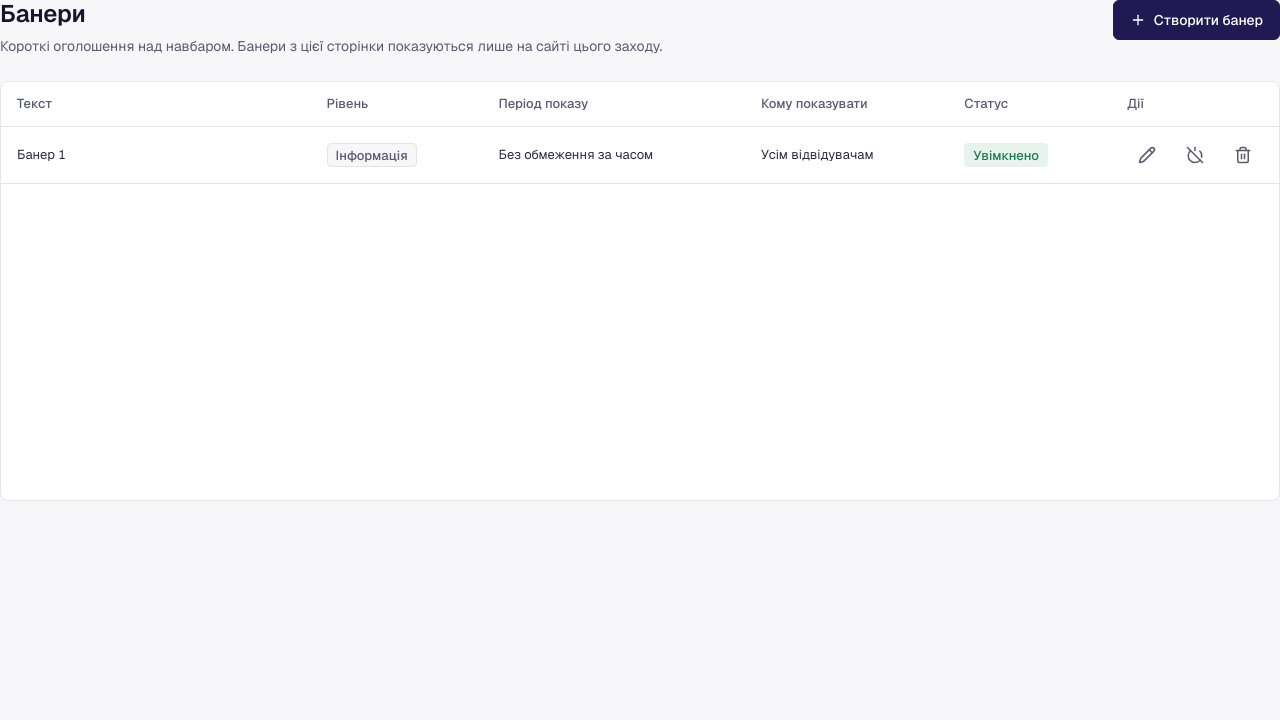
it: keeps existing banner Save disabled when clean or reverted to equivalent text
Expected: the text "Банер 1" is shown, [1, 127, 311, 184]
Click the button named "Редагувати".
click(1147, 155)  # box [1127, 135, 1167, 175]
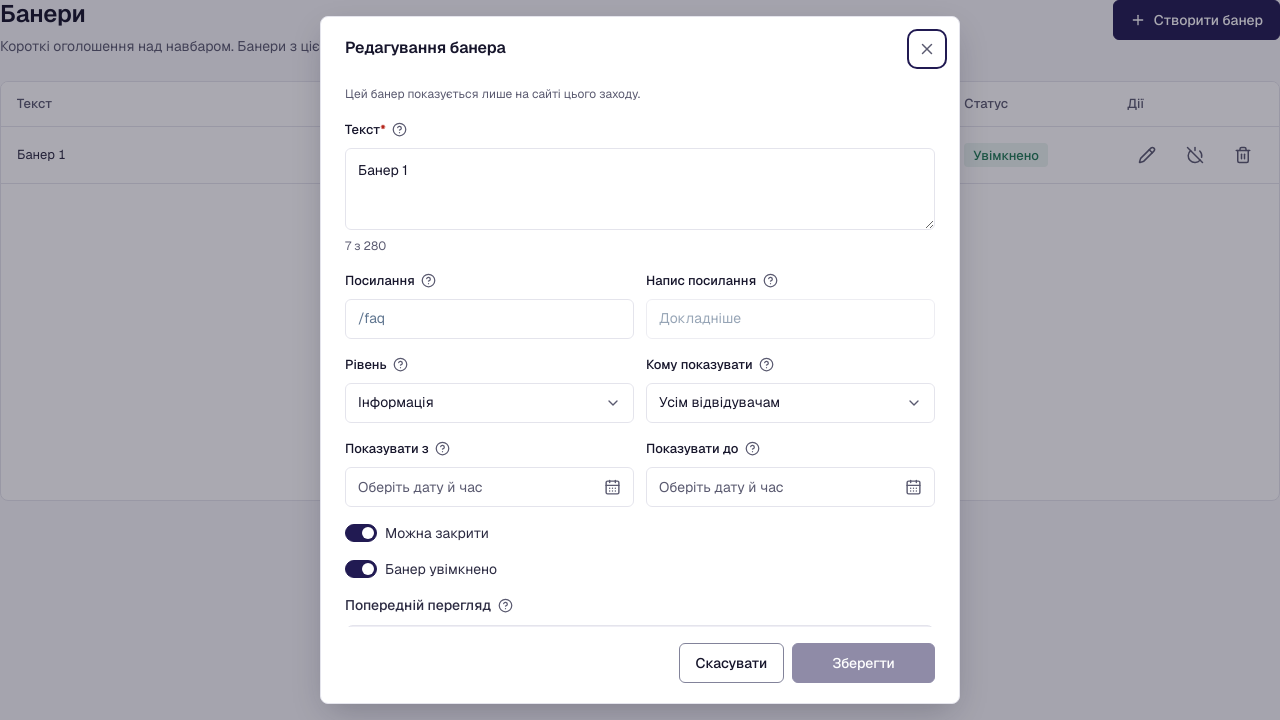
Expected: the button "Зберегти" is disabled, [792, 643, 935, 683]
Replace the text in the text box labelled "Текст*" with "Інший банер" at (640, 189), box [345, 148, 935, 230]
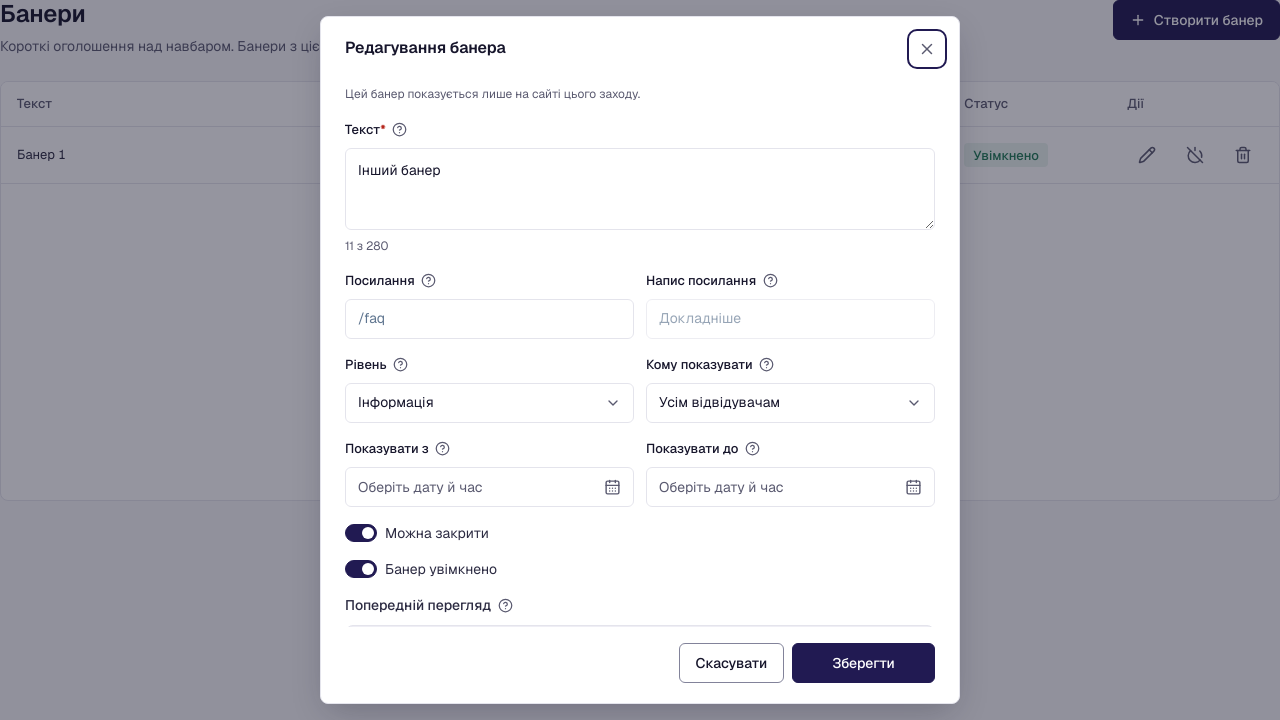
Expected: the button "Зберегти" is shown, [792, 643, 935, 683]
Replace the text in the text box labelled "Текст*" with " Банер 1 " at (640, 189), box [345, 148, 935, 230]
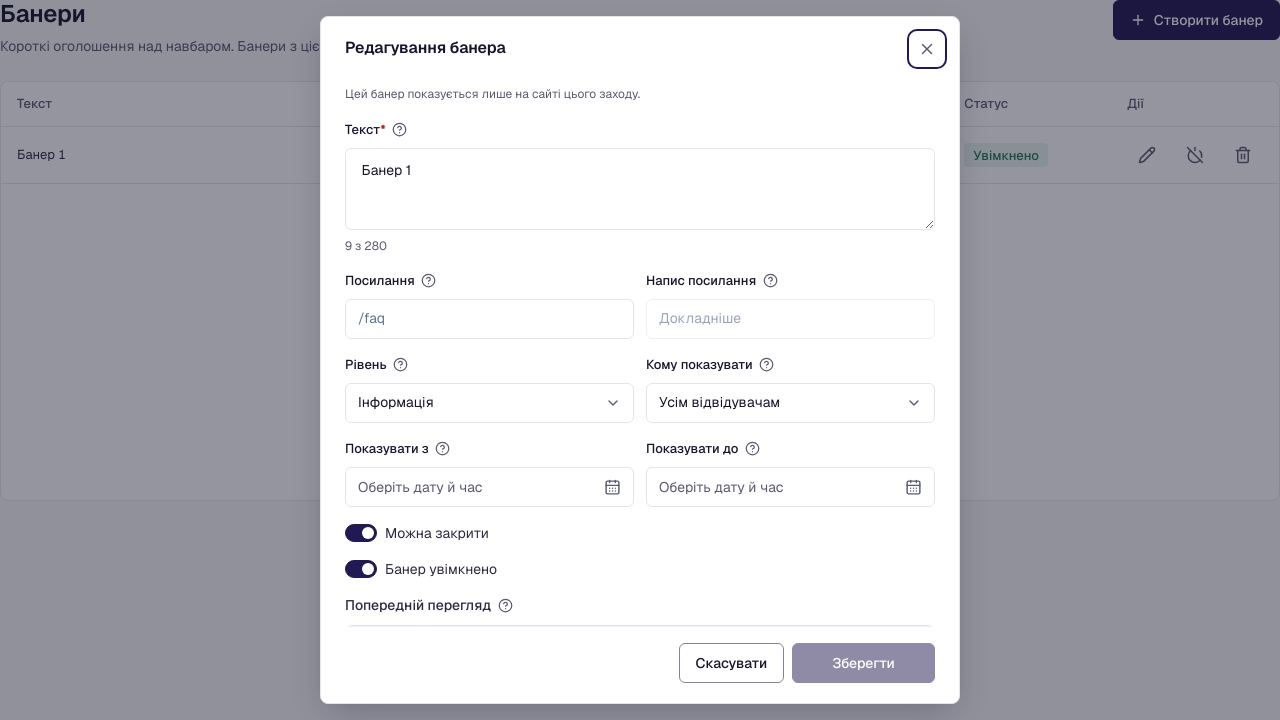
Expected: the button "Зберегти" is disabled, [792, 643, 935, 683]
